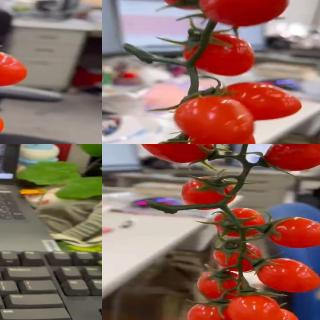tomato: (173, 95, 254, 144), (214, 81, 303, 121), (181, 32, 255, 78), (199, 0, 291, 28), (255, 256, 320, 292), (264, 215, 320, 248), (182, 177, 237, 210), (214, 208, 271, 239), (213, 241, 267, 273), (139, 144, 216, 165), (262, 144, 320, 171), (225, 293, 282, 320), (196, 270, 241, 304), (0, 48, 29, 87), (188, 128, 257, 144), (185, 301, 238, 320), (249, 306, 304, 320), (156, 0, 220, 10)
